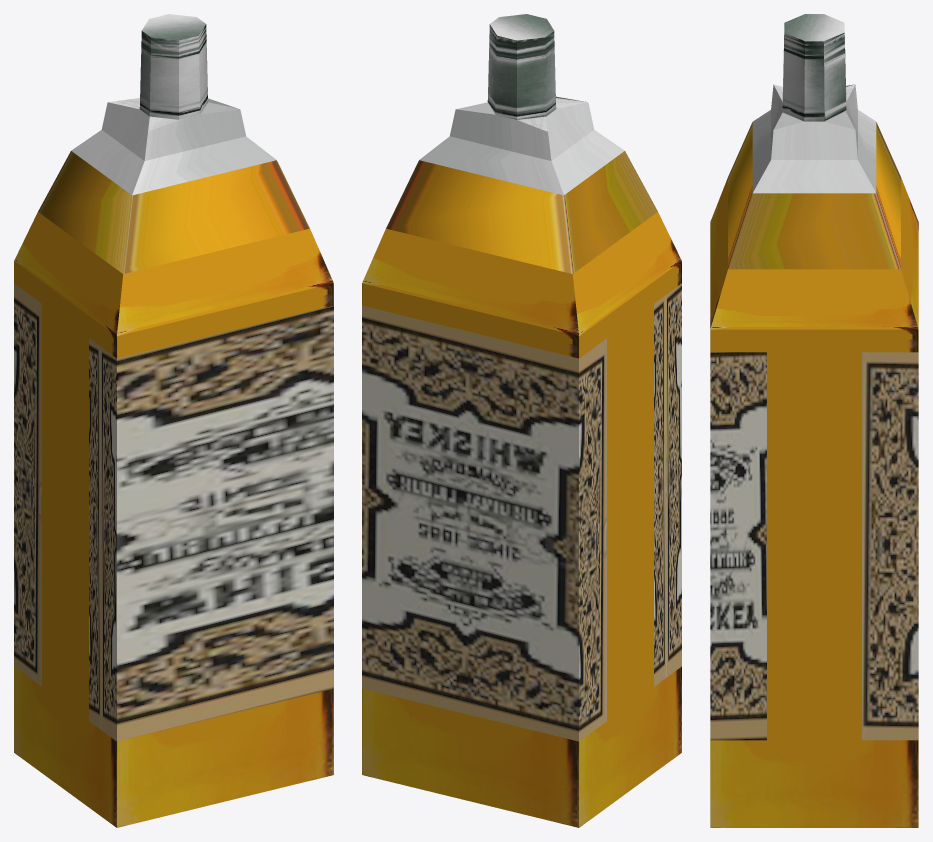
The model's file is whiskey1.FBX.
3 renders of one model, left to right at view 1: azimuth 30°, elevation 25°; view 2: azimuth 150°, elevation 25°; view 3: azimuth 270°, elevation 25°, orthographic.
Parts seen in each view (by area): view 1: Object002, Box001, Object003, Object001, Object004; view 2: Object001, Box001, Object003, Object002, Object004; view 3: Box001, Object001, Object002, Object003, Object004.
Part boxes in pixels (x1,y1,x2,y2): Object002: (89, 305, 333, 741); Box001: (14, 151, 333, 827); Object003: (71, 98, 276, 195); Object001: (14, 283, 41, 686); Object004: (139, 14, 208, 119); Object001: (362, 305, 606, 741); Box001: (362, 151, 681, 827); Object003: (419, 96, 624, 195); Object002: (654, 283, 681, 686); Object004: (487, 14, 556, 119); Box001: (710, 122, 918, 827); Object001: (862, 352, 918, 740); Object002: (710, 352, 766, 740); Object003: (752, 84, 876, 193); Object004: (782, 14, 846, 121).
Bounding box in the file's own units: 44.92 × 146 × 36.84.
4 materials, 4 textured.
